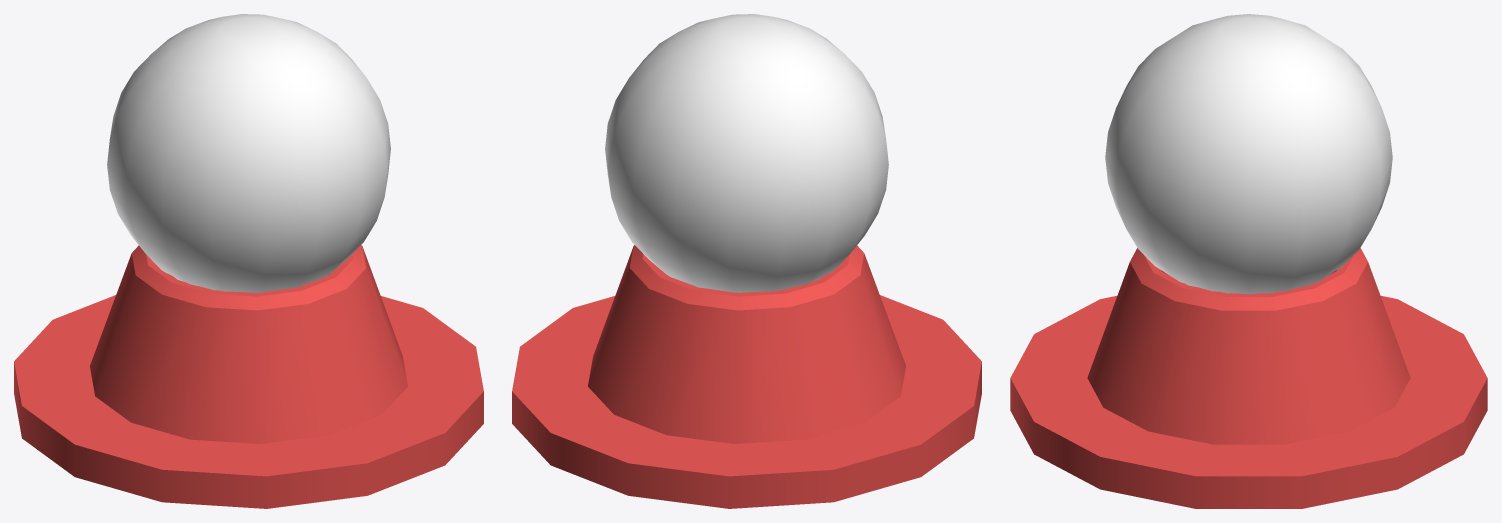
The model's file is Golf_Ball.fbx.
3 views of the same model, side by side, from view 1: azimuth 30°, elevation 25°; view 2: azimuth 150°, elevation 25°; view 3: azimuth 270°, elevation 25° (orthographic).
Visible parts, largest first — view 1: Golf_Ball; view 2: Golf_Ball; view 3: Golf_Ball.
Part boxes in pixels (x1,y1,x2,y2): Golf_Ball: (14, 14, 483, 508); Golf_Ball: (512, 14, 981, 508); Golf_Ball: (1010, 14, 1487, 508).
Bounding box in the file's own units: 3.11 × 2.81 × 3.19.
1 material, 1 textured.
